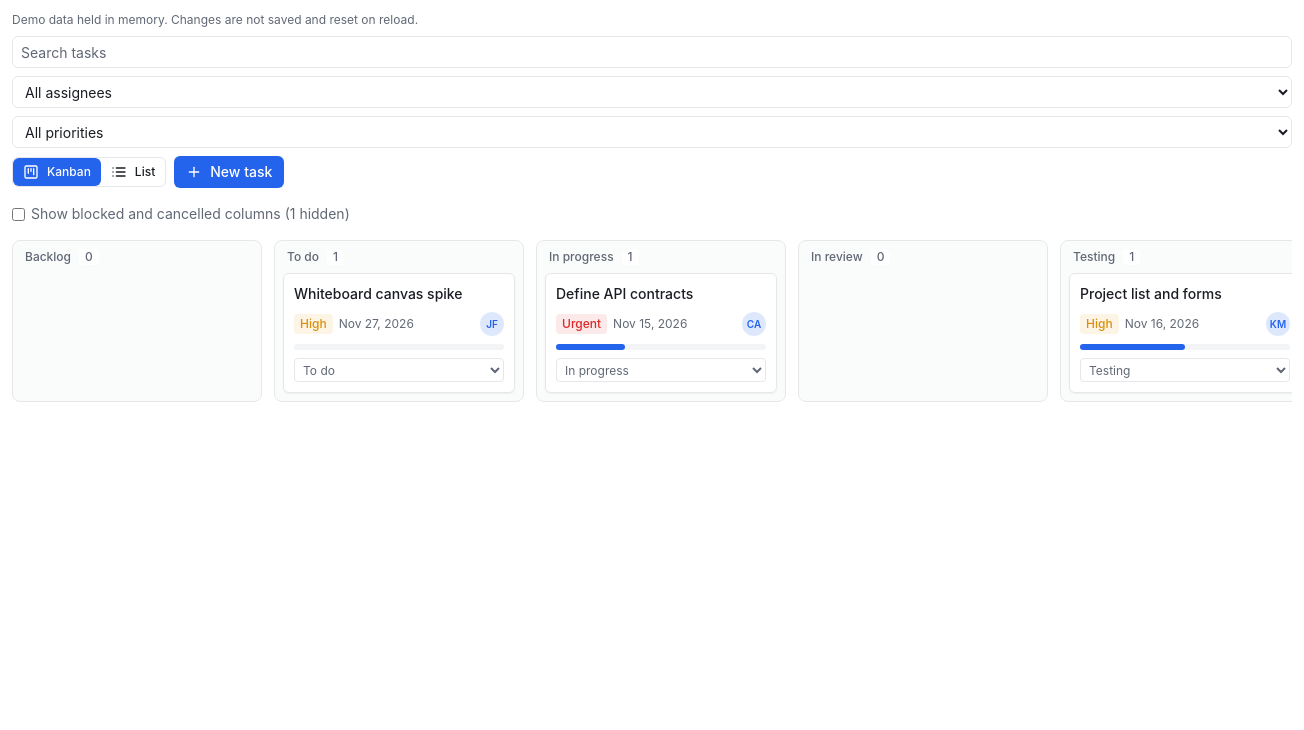
Scenario: TasksView › opens the detail panel, and subtasks drive progress
The width and height of the screenshot is (1304, 730).
What coordinates should you click on to do the following:
click the text "Project list and forms"
I would click on:
 (1151, 294)
Its box is [1080,285,1222,302].
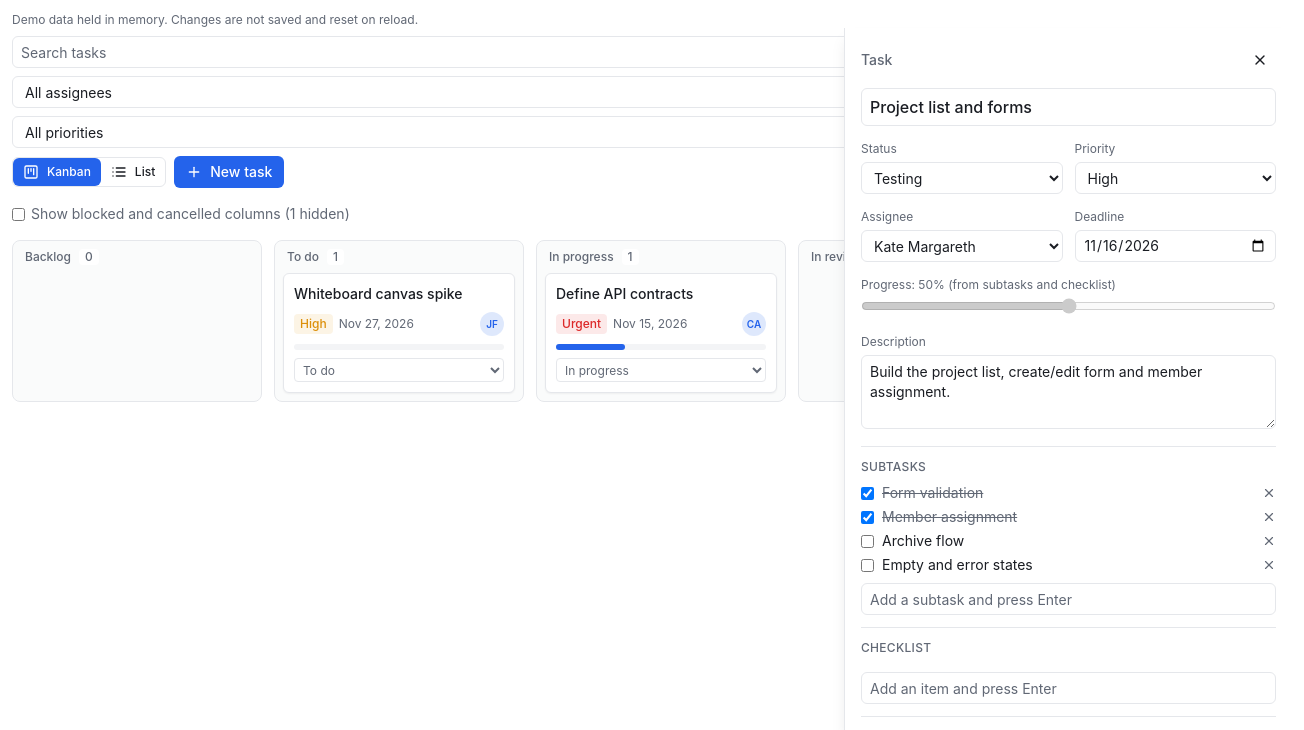
Expected: the text "Progress: 50% (from subtasks and checklist)" is shown, [861,277,1116,292]
What coordinates should you click on to do the following:
click the checkbox named "Archive flow"
I would click on:
 (868, 541)
Its box is [861,534,874,548].
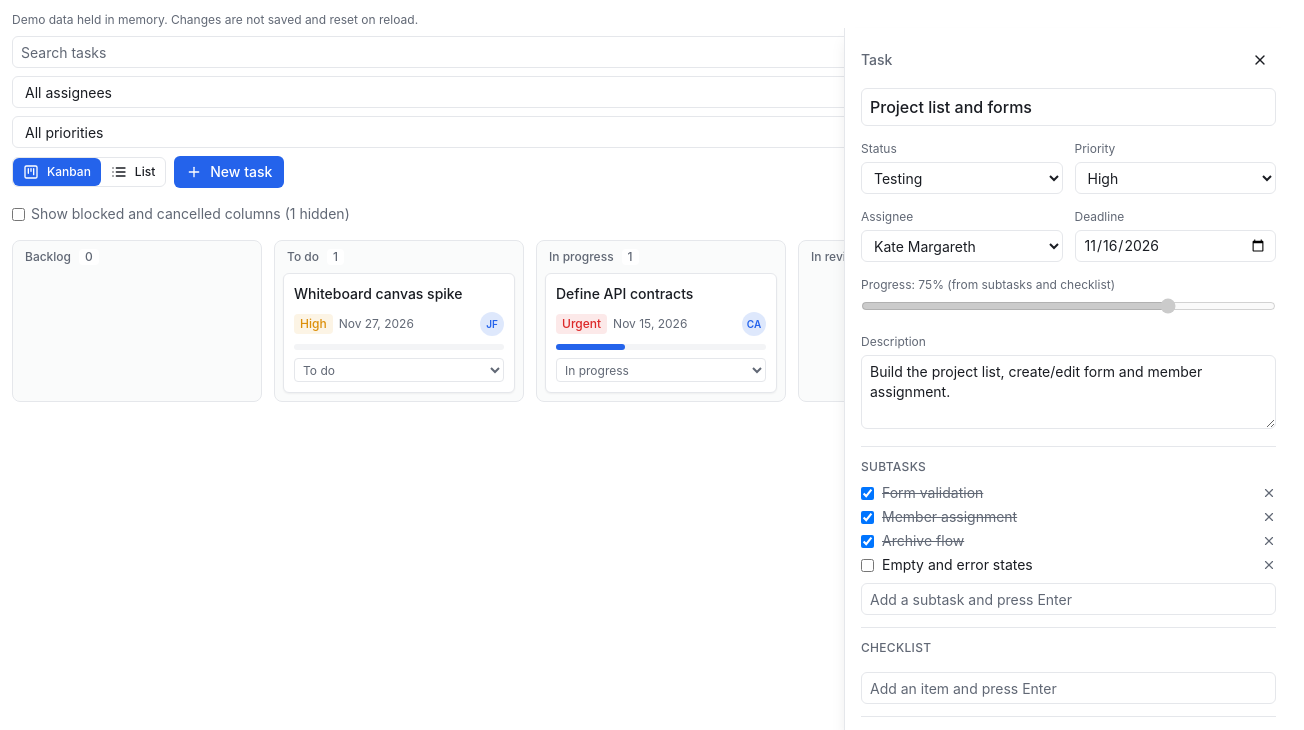
Expected: the text "Progress: 75% (from subtasks and checklist)" is shown, [861,277,1115,292]
